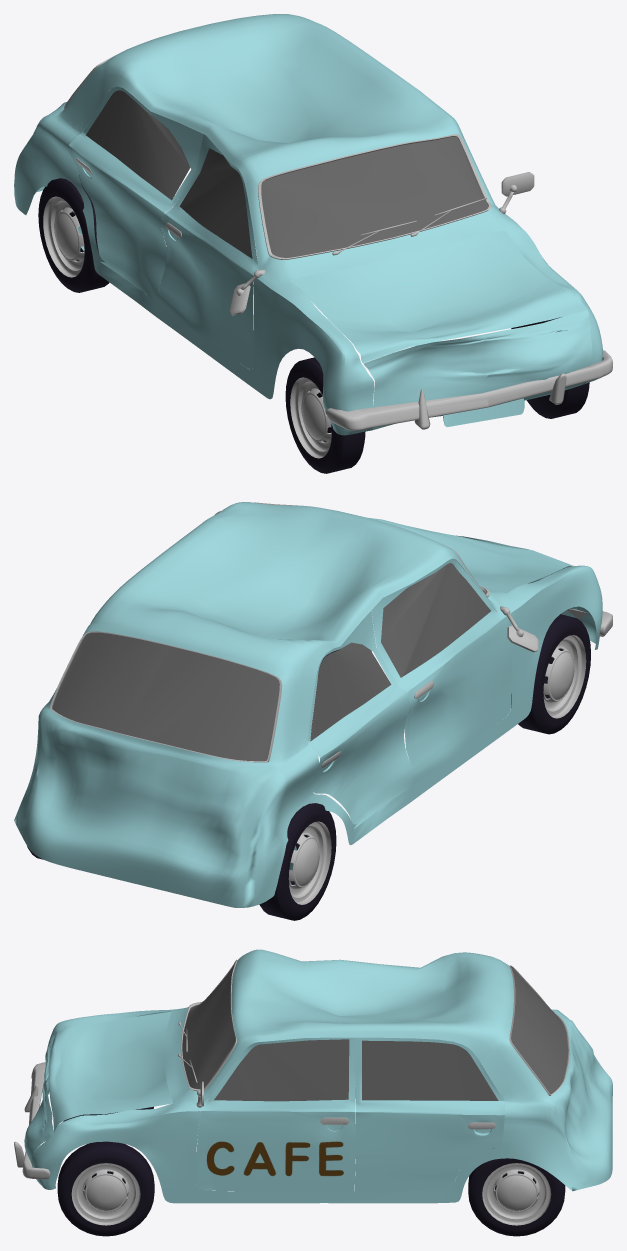
File: Car2.fbx
3 renders of one model, top to bottom at view 1: azimuth 30°, elevation 25°; view 2: azimuth 150°, elevation 25°; view 3: azimuth 270°, elevation 25°, orthographic. The views are drawn at different scales.
Visible parts, largest first — view 1: Car, Car.002, Car.001, Car.003; view 2: Car, Car.002, Car.001, Car.003; view 3: Car, Car.002, Car.001, Car.003.
Boxes of the visible parts, box(x1,y1,x2,y2) form: Car: box(14, 14, 602, 435); Car.002: box(86, 90, 487, 258); Car.001: box(43, 54, 612, 458); Car.003: box(38, 175, 589, 473); Car: box(14, 502, 602, 907); Car.002: box(52, 563, 490, 761); Car.001: box(50, 502, 612, 904); Car.003: box(27, 614, 590, 920); Car: box(24, 949, 612, 1203); Car.002: box(182, 964, 568, 1101); Car.001: box(14, 959, 569, 1225); Car.003: box(57, 1106, 565, 1236).
Size of the model in its own units: 129 by 97.53 by 263.
